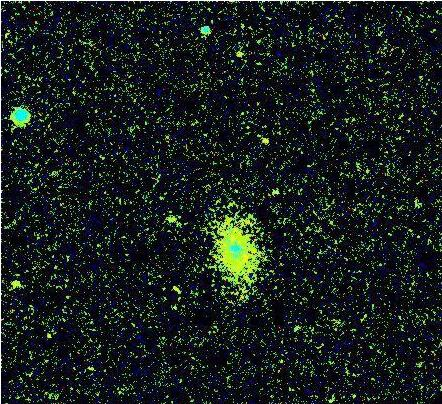star: (2, 268, 32, 298)
